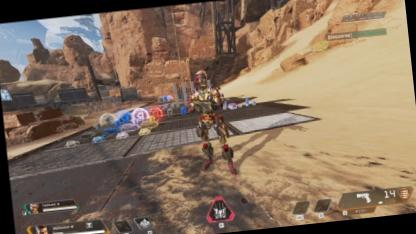Target: (186, 68, 236, 178)
